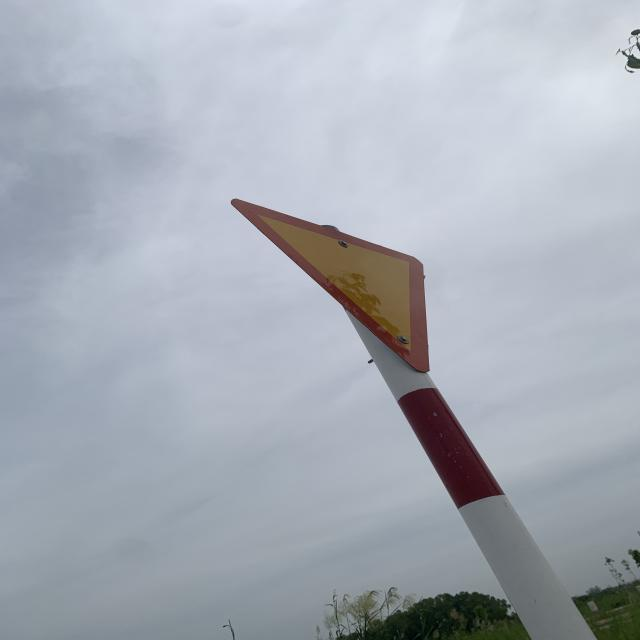Gioi_Han_Toc_Do_25: (230, 198, 433, 372)
